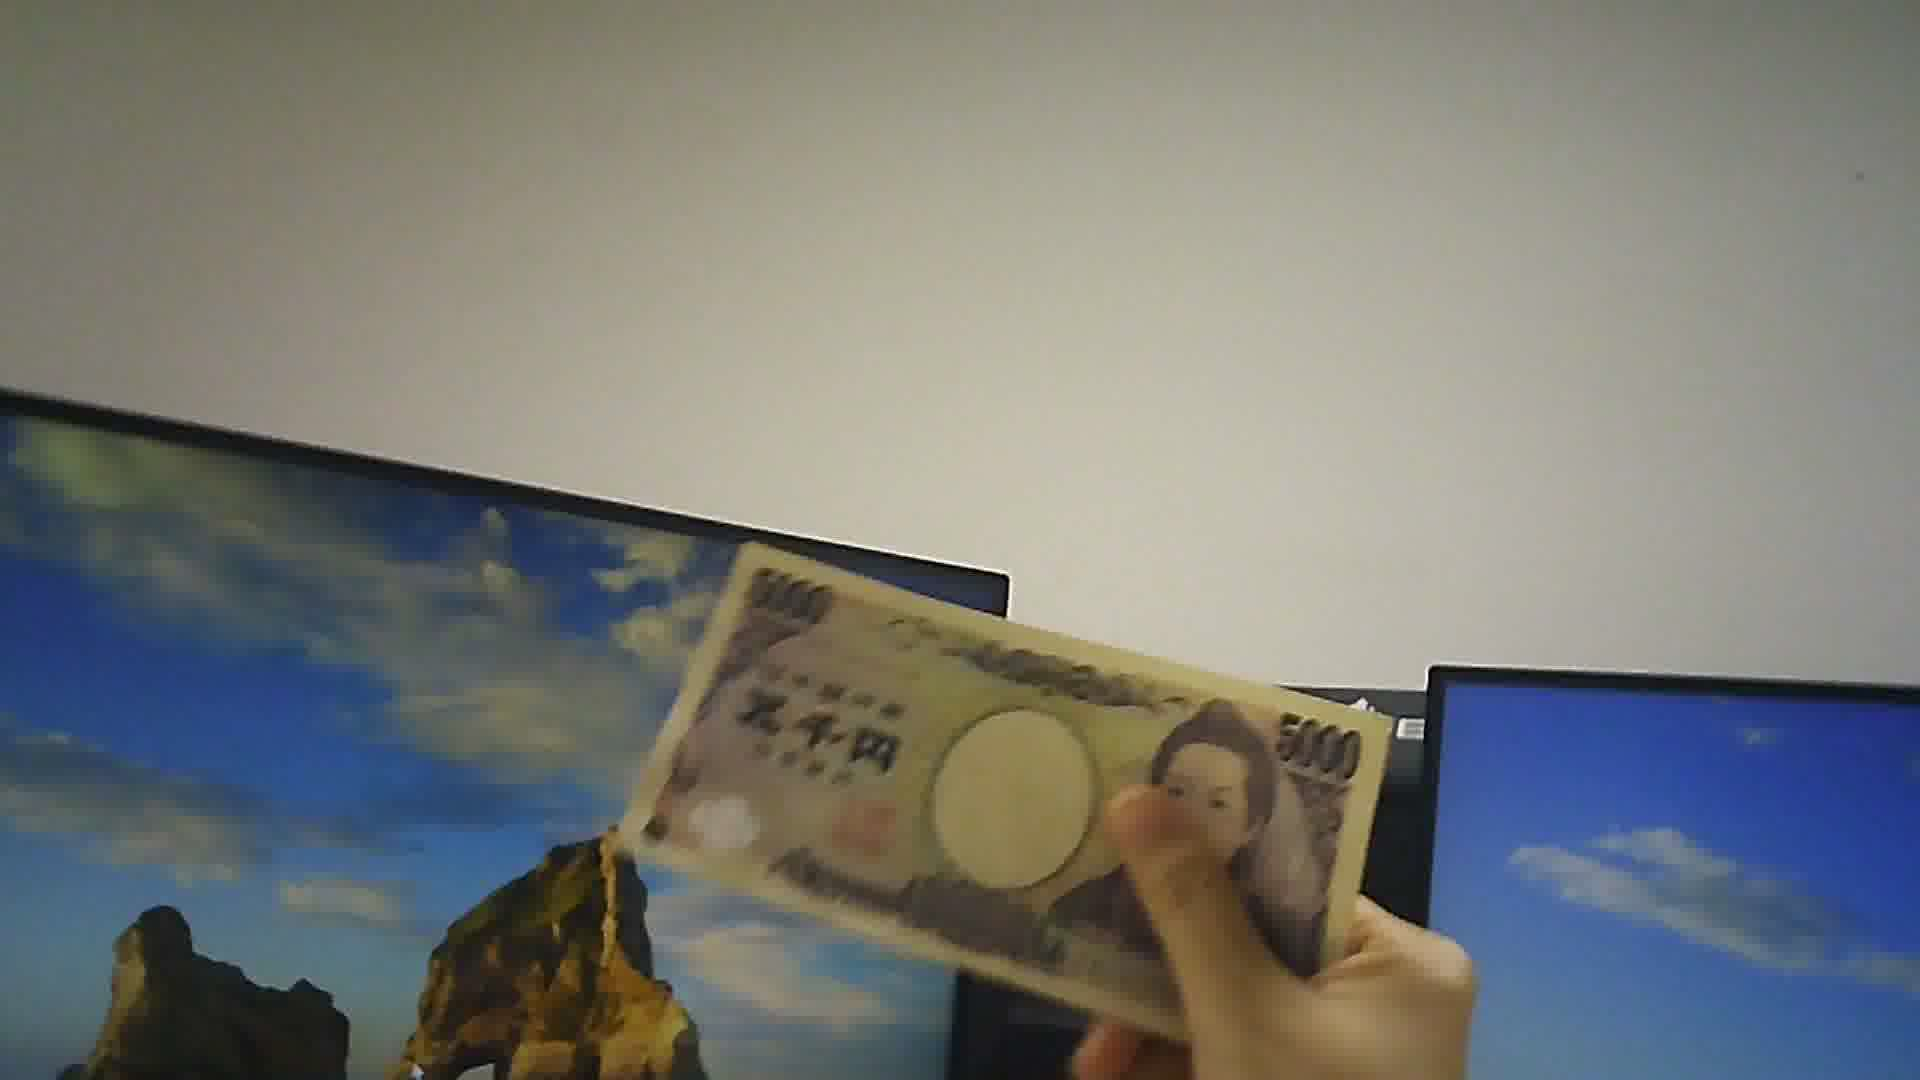5,000 Yen: (616, 522, 1406, 1006)
